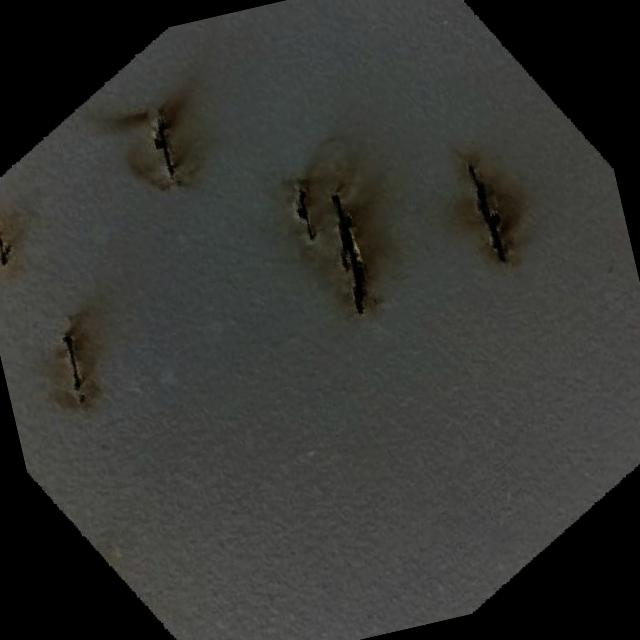crack: (325, 186, 374, 316), (468, 162, 514, 262), (146, 109, 181, 180), (58, 330, 90, 406), (290, 180, 318, 244), (0, 214, 9, 268)
